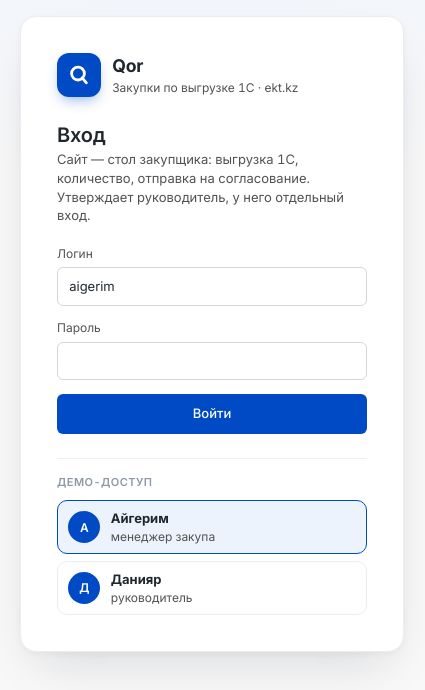
Test case: LoginScreen › клик по аккаунту подставляет логин и пароль
Click the text "Данияр": coordinates (136, 579) [111,571,162,587]
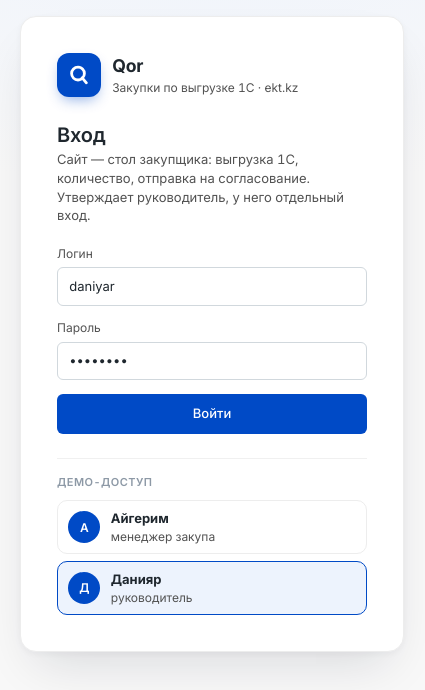
Now the field labelled "Логин" holds "daniyar", box [57,267,367,306]
Now the password field labelled "Пароль" holds "director", box [57,342,367,380]
